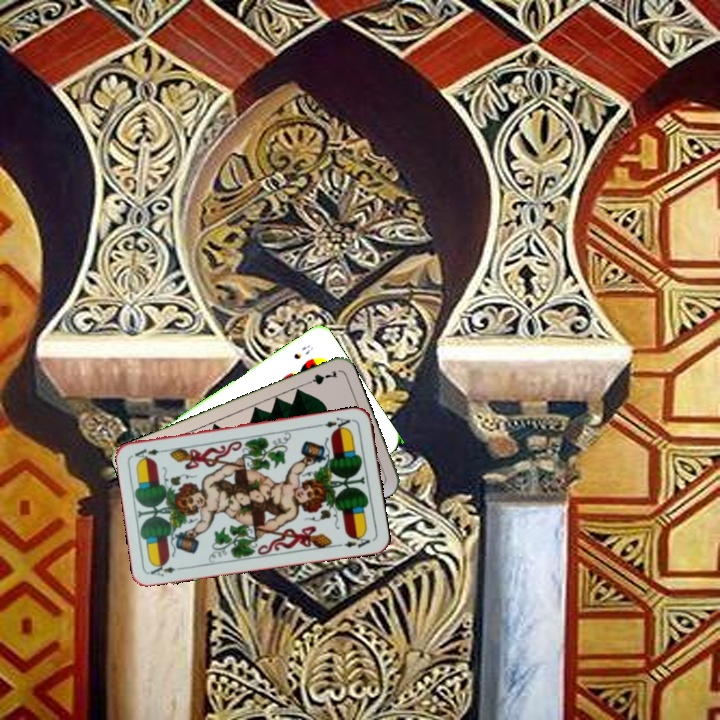EA: (146, 559, 187, 579), (316, 413, 356, 433)
G7: (300, 366, 340, 388)
S8: (289, 341, 316, 362)
